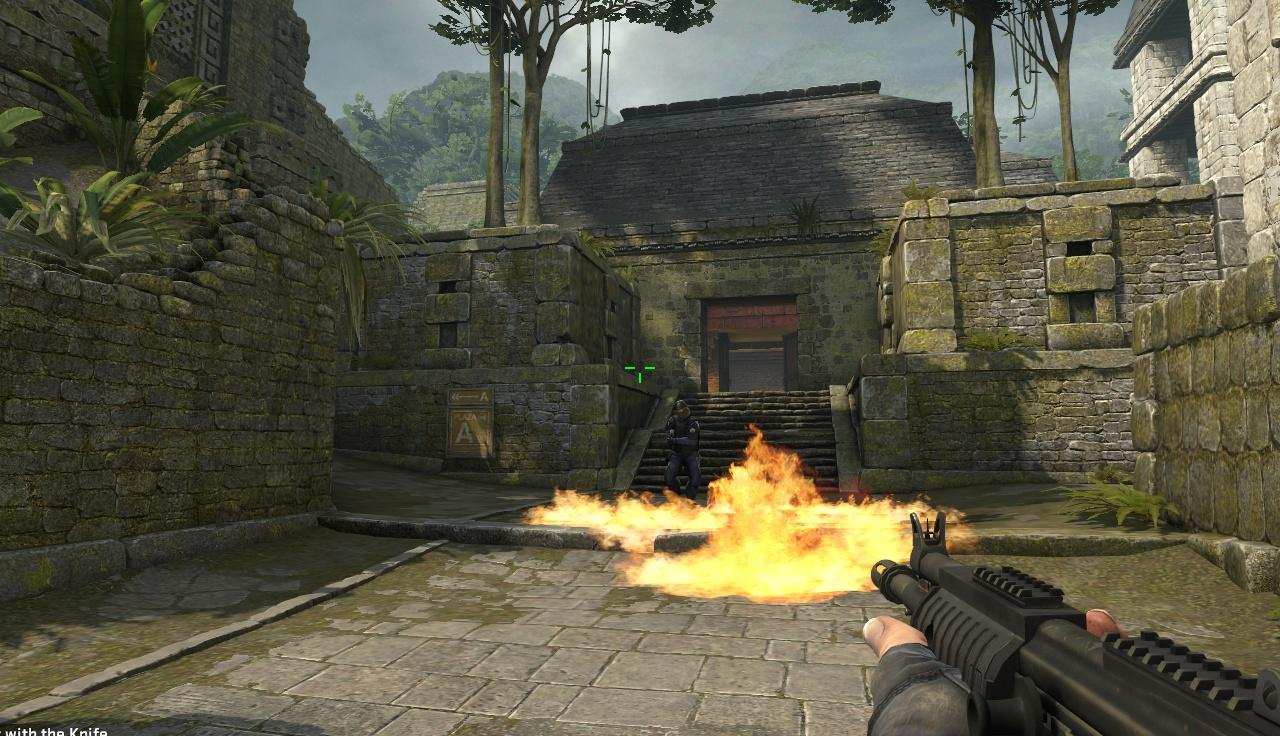ct: (668, 395, 706, 500)
cthead: (675, 398, 693, 419)
rifle: (874, 516, 1280, 736)
